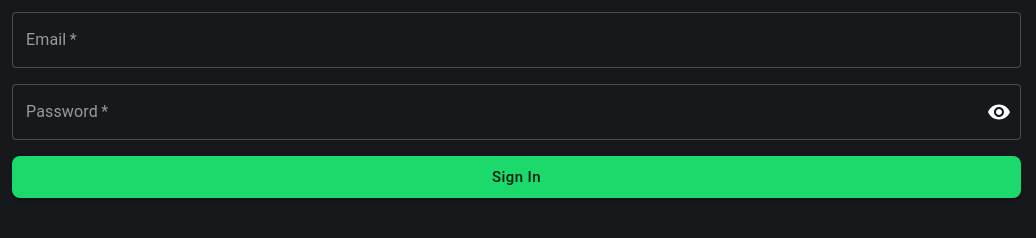
it: LoginForm › should show validation error for empty password
The image size is (1036, 238).
Type "test@example.com" into the field labelled "Email *" at (516, 40), box 12,12 -> 1021,68
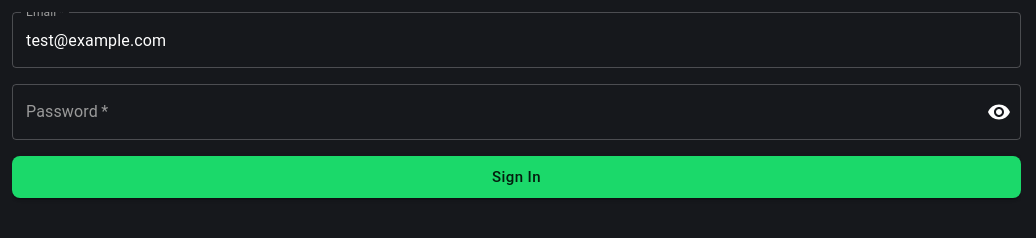
Submit the form "Email * Password * Sign In"
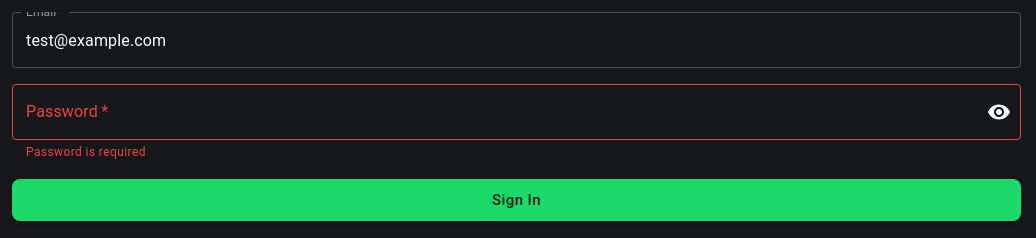
Expected: the text "Password is required" is shown, 26,145 -> 146,159
